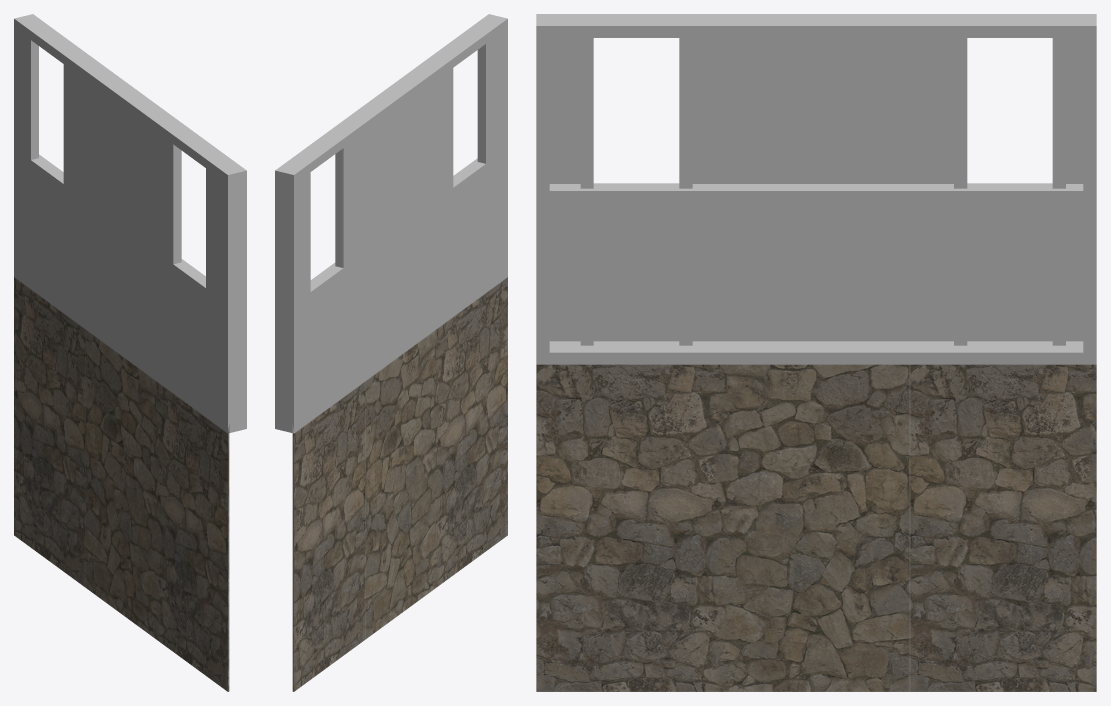
File: HouseWall_3x2_v2.fbx
3 renders of one model, left to right at view 1: azimuth 30°, elevation 25°; view 2: azimuth 150°, elevation 25°; view 3: azimuth 270°, elevation 25°, orthographic. The views are drawn at different scales.
Visible parts, largest first — view 1: Plane.087; view 2: Plane.087; view 3: Plane.087.
Boxes of the visible parts, left/top/right/bottom form: Plane.087: left=14, top=14, right=246, bottom=691; Plane.087: left=275, top=14, right=507, bottom=691; Plane.087: left=536, top=14, right=1096, bottom=691.
Size of the model in its own units: 15.34 by 400 by 300.
